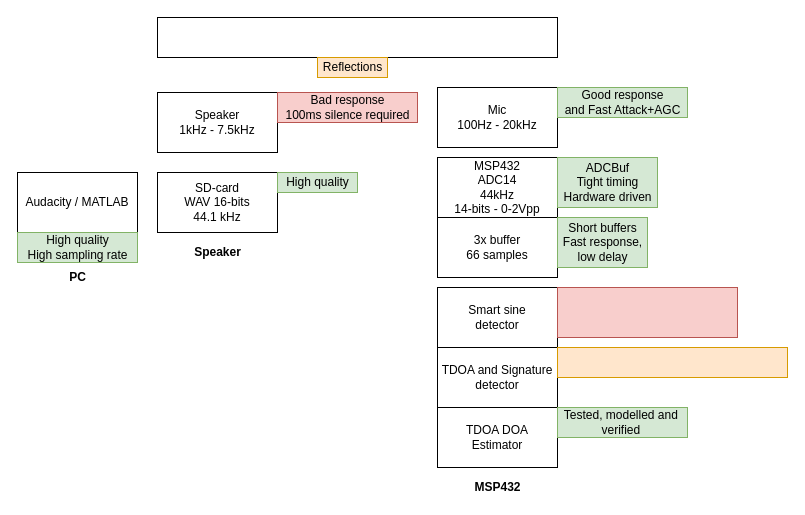
Image size: 805x515. Some labels were removed from this diagram. Each missing label, with the box of its shape:
Channel Impulse Response (CIR): (156, 16, 558, 58)
Not tuned Reference signal incorrect Not best frequency correlation: (556, 286, 738, 338)
Untested, modelled and verified with noise (SNR) without Response/CIR: (556, 346, 788, 378)
